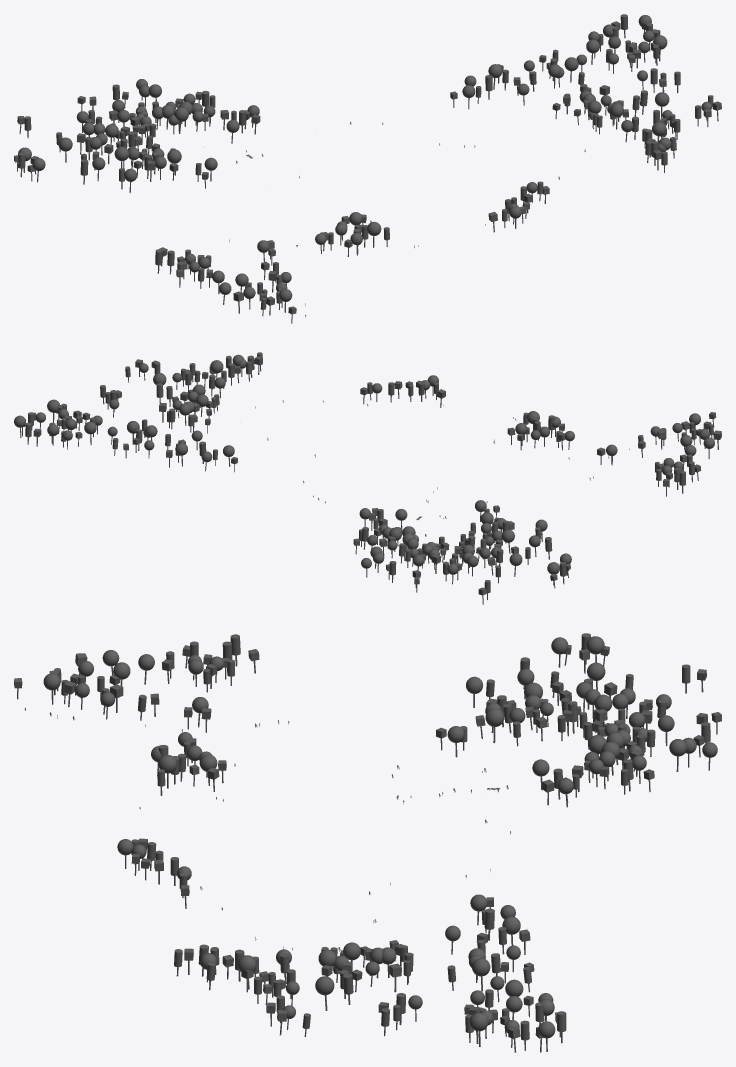
The model's file is gallery.glb.
3 views of the same model, one above another, from view 1: azimuth 30°, elevation 25°; view 2: azimuth 150°, elevation 25°; view 3: azimuth 270°, elevation 25° (orthographic). The views are drawn at different scales.
Size of the model in its own units: 34052 by 1651 by 25837.
1 material, 1 textured.
